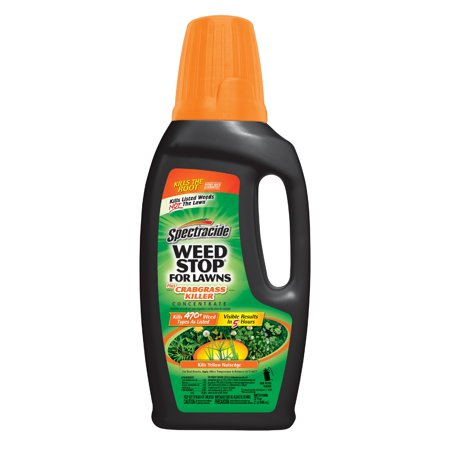crabgrass: (167, 341, 195, 361)
